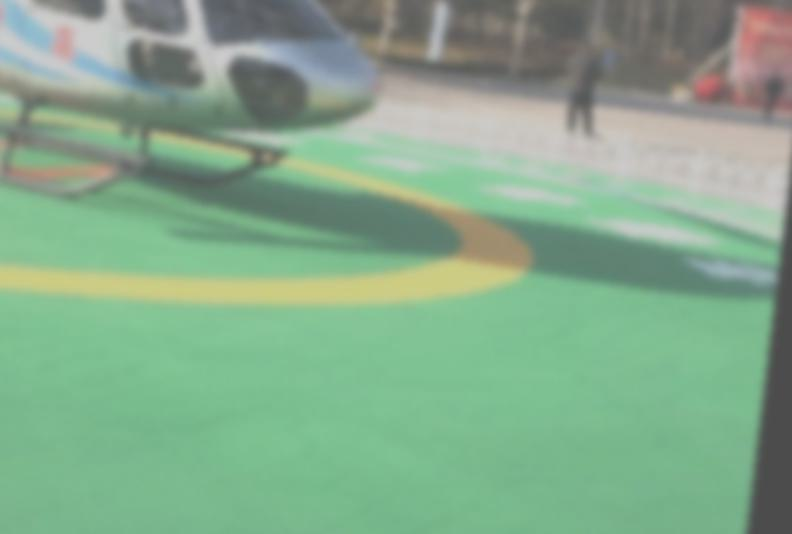Apron: (1, 16, 546, 327)
